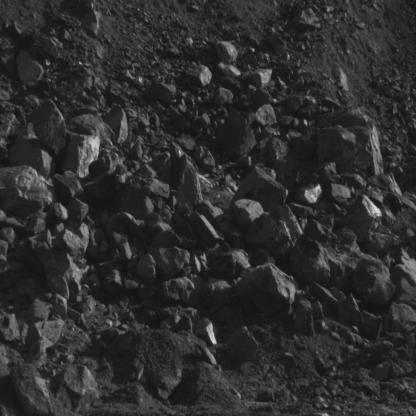stone: (317, 108, 385, 176), (246, 204, 304, 261), (0, 165, 59, 219), (242, 263, 295, 323), (227, 167, 289, 211), (10, 122, 55, 178), (51, 365, 100, 415), (28, 99, 67, 160), (171, 142, 203, 211), (38, 250, 90, 292), (216, 109, 256, 163), (10, 365, 53, 415), (289, 235, 330, 286), (352, 260, 396, 305), (343, 194, 382, 243), (51, 223, 89, 271), (61, 134, 101, 179), (148, 246, 190, 281), (208, 248, 250, 281), (226, 325, 260, 364), (109, 213, 150, 245), (120, 181, 154, 219), (189, 211, 224, 247), (24, 319, 65, 349), (381, 302, 416, 337), (16, 230, 54, 262), (70, 115, 109, 146), (160, 277, 200, 307), (16, 49, 46, 87), (103, 103, 128, 148), (233, 199, 264, 235), (51, 171, 83, 204), (266, 138, 298, 170), (83, 171, 117, 201), (333, 293, 363, 326), (205, 280, 231, 315), (292, 298, 314, 337), (357, 310, 383, 340), (304, 220, 336, 243), (196, 199, 223, 226), (144, 82, 177, 104), (295, 181, 323, 206), (24, 340, 47, 369), (195, 318, 218, 347), (292, 8, 321, 31), (135, 254, 156, 284), (25, 299, 53, 321), (0, 310, 19, 342), (44, 276, 69, 300), (186, 63, 212, 86), (103, 270, 126, 296), (45, 203, 68, 227), (194, 146, 216, 171), (143, 178, 170, 198), (215, 41, 238, 64), (150, 232, 183, 248), (255, 104, 277, 128), (67, 198, 88, 223), (325, 183, 351, 203), (0, 113, 19, 140), (250, 68, 272, 88), (212, 87, 234, 107), (38, 37, 59, 57), (217, 61, 241, 78), (50, 295, 67, 318), (85, 11, 101, 35), (119, 242, 132, 261)
